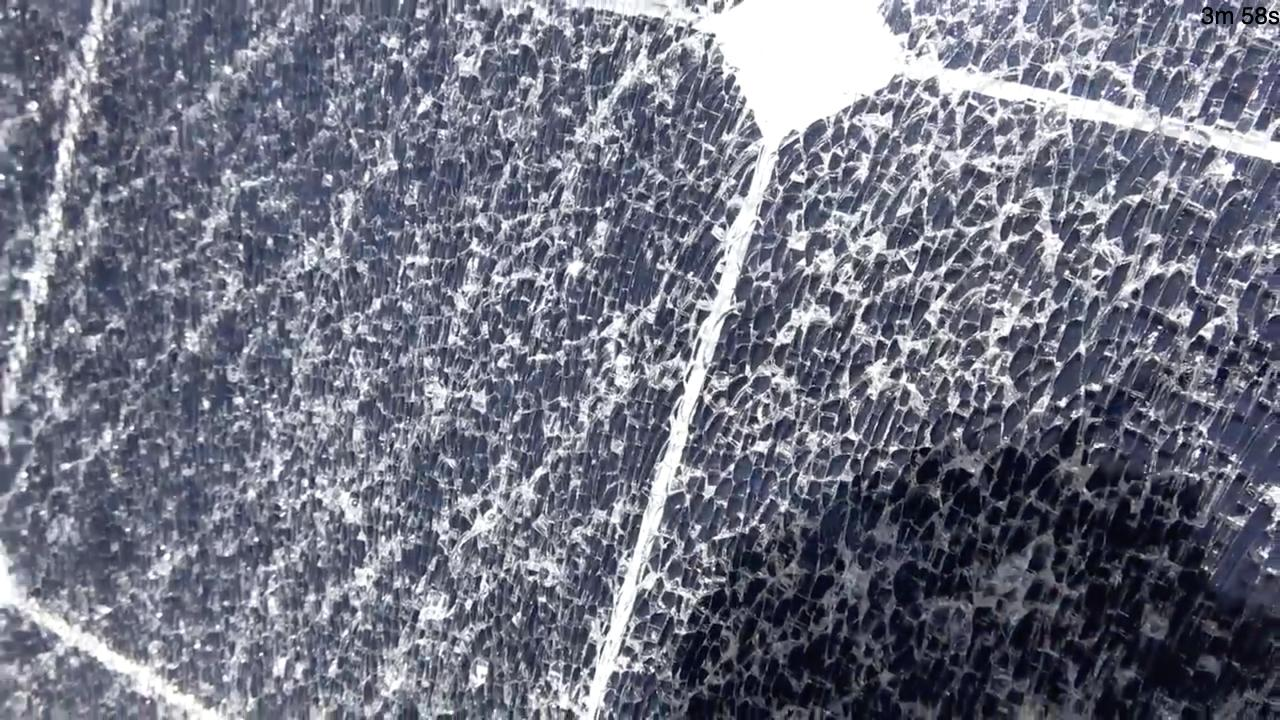Crack: (12, 4, 1276, 708)
